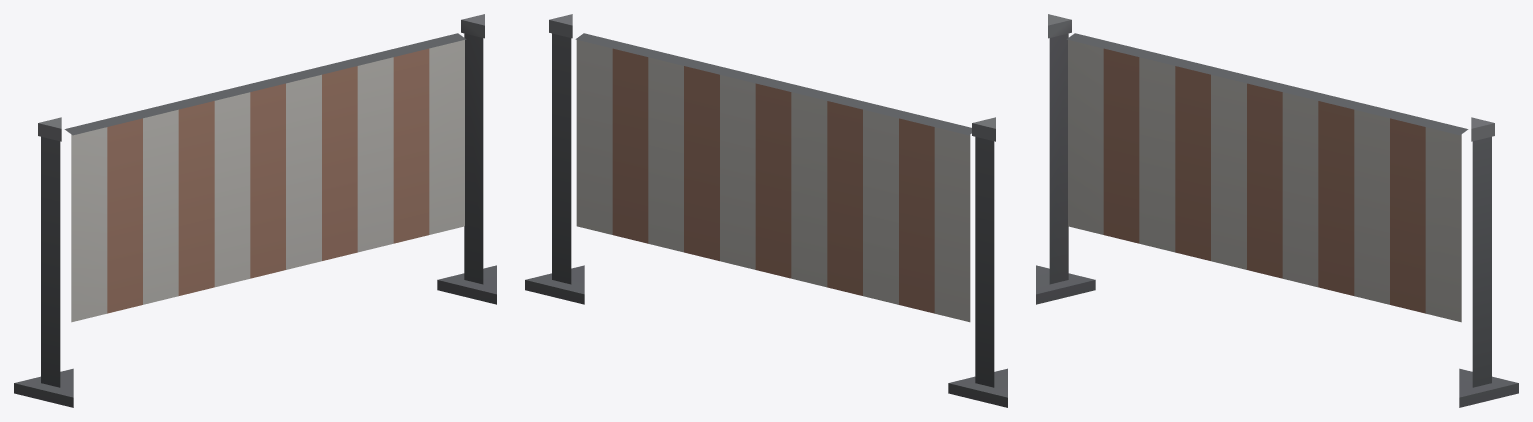
The model's file is fence.lod1.glb.
The picture shows the model from 3 angles, left to right: view 1: azimuth 30°, elevation 25°; view 2: azimuth 150°, elevation 25°; view 3: azimuth 330°, elevation 25°; orthographic projection.
Bounding box in the file's own units: 1.96 × 1.05 × 0.21.
